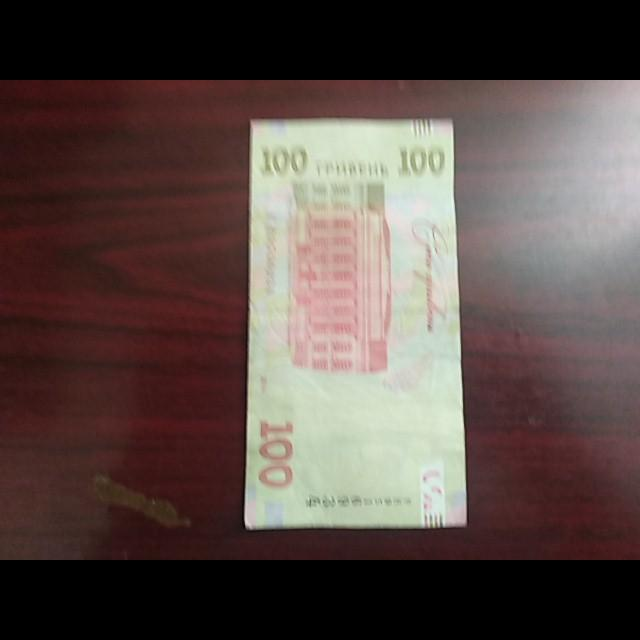100uah: (244, 119, 468, 529)
